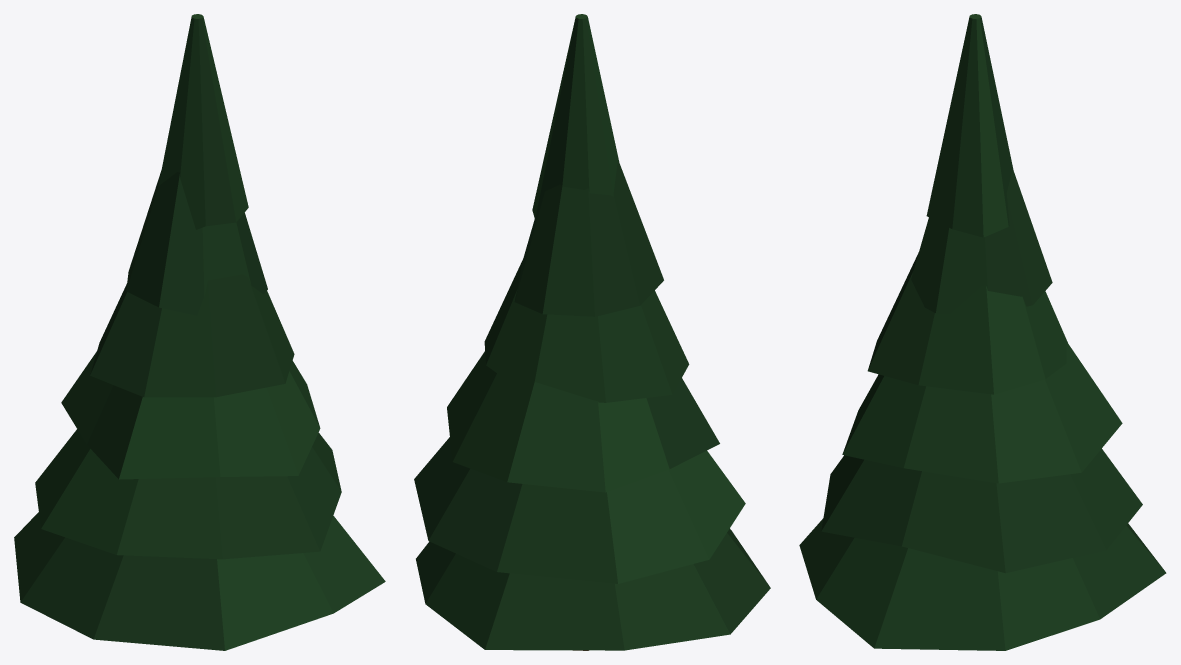
The model's file is spruce_3.glb.
3 views of the same model, side by side, from view 1: azimuth 30°, elevation 25°; view 2: azimuth 150°, elevation 25°; view 3: azimuth 270°, elevation 25° (orthographic).
Parts seen in each view (by area): view 1: trunk; view 2: trunk; view 3: trunk.
Part boxes in pixels (<box>): trunk: <box>14,14,385,650</box>; trunk: <box>414,14,770,650</box>; trunk: <box>799,14,1166,650</box>.
Size of the model in its own units: 5.59 by 10.57 by 5.67.
